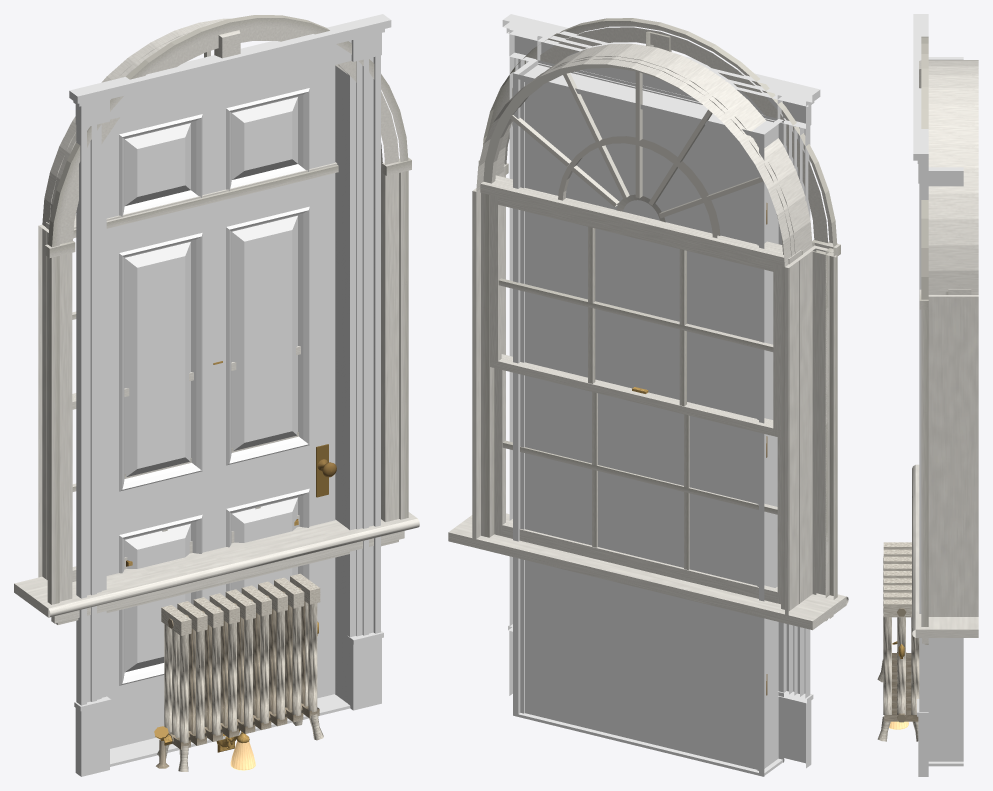
Rendered from props_corridor_ao.glb.
The picture shows the model from 3 angles, left to right: view 1: azimuth 30°, elevation 25°; view 2: azimuth 150°, elevation 25°; view 3: azimuth 270°, elevation 25°; orthographic projection. The views are drawn at different scales.
Parts seen in each view (by area): view 1: door_6panel, window_fanlight, radiator_cast_iron, sconce_brass; view 2: door_6panel, window_fanlight; view 3: window_fanlight, door_6panel, radiator_cast_iron.
Boxes of the visible parts, x1,y1,x2,y2 form: door_6panel: (69, 14, 391, 776); window_fanlight: (14, 15, 419, 624); radiator_cast_iron: (154, 573, 323, 771); sconce_brass: (216, 730, 255, 770); door_6panel: (502, 14, 820, 776); window_fanlight: (448, 18, 848, 630); window_fanlight: (912, 36, 978, 644); door_6panel: (913, 14, 963, 776); radiator_cast_iron: (877, 542, 919, 741).
Size of the model in its own units: 1.7 by 3.22 by 0.4406.
5 materials, 1 textured.
